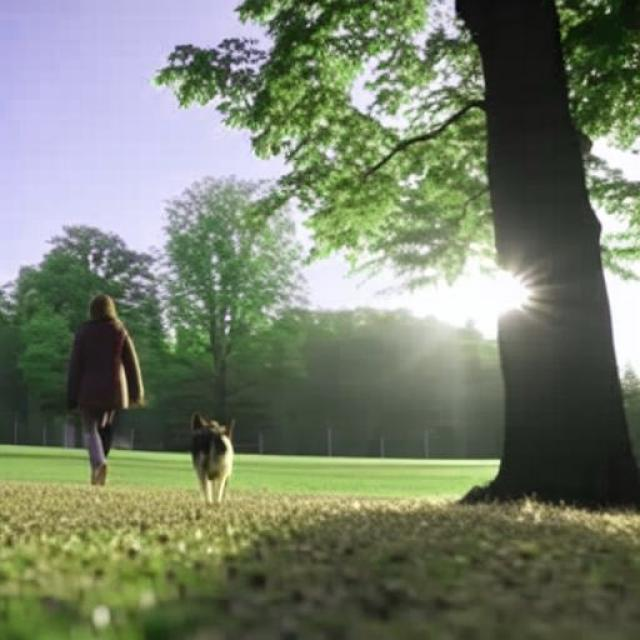Unleashed_Dog: (88, 389, 234, 506)
